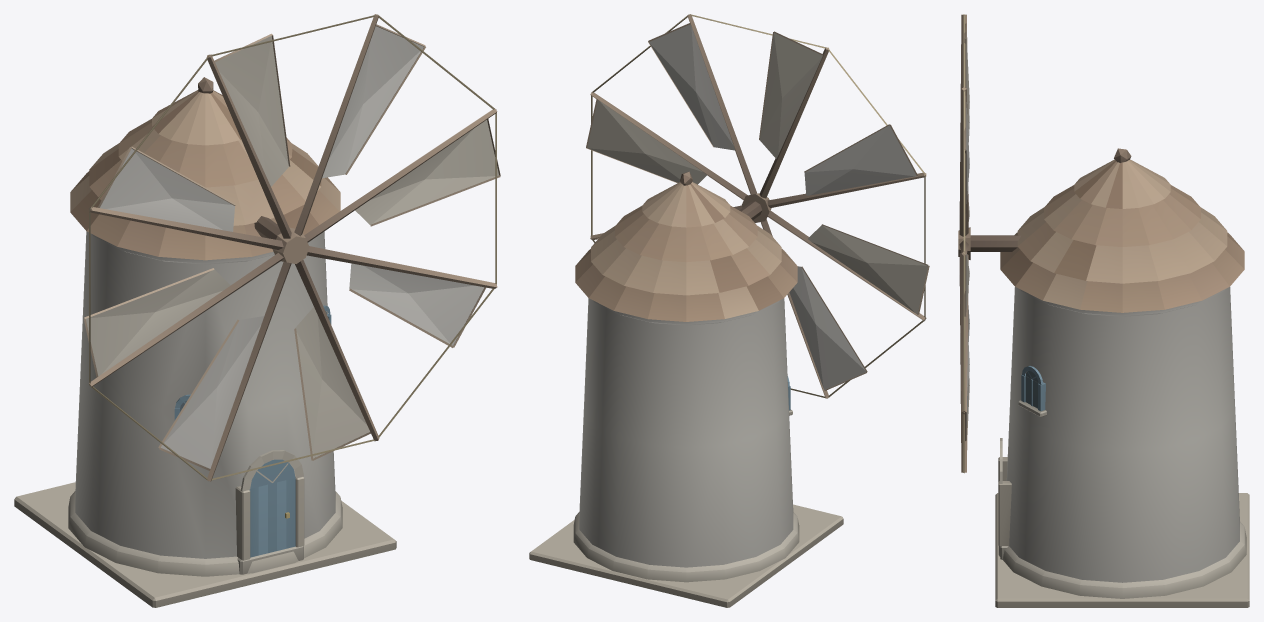
File: windmill.glb
3 renders of one model, left to right at view 1: azimuth 30°, elevation 25°; view 2: azimuth 150°, elevation 25°; view 3: azimuth 270°, elevation 25°, orthographic. The views are drawn at different scales.
Bounding box in the file's own units: 9.41 × 12.11 × 6.3.
